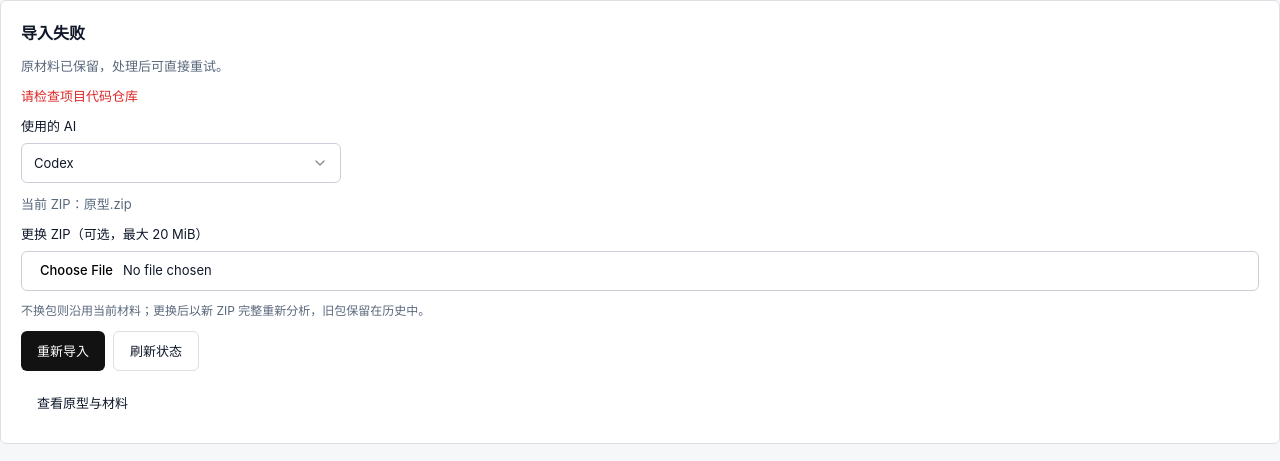
Test case: 原型快速导入 › 失败直接说明原因，点击重试使用现有材料和当前修订
The width and height of the screenshot is (1280, 461).
Click the button "重新导入": [63, 351] box 21,331 -> 105,371
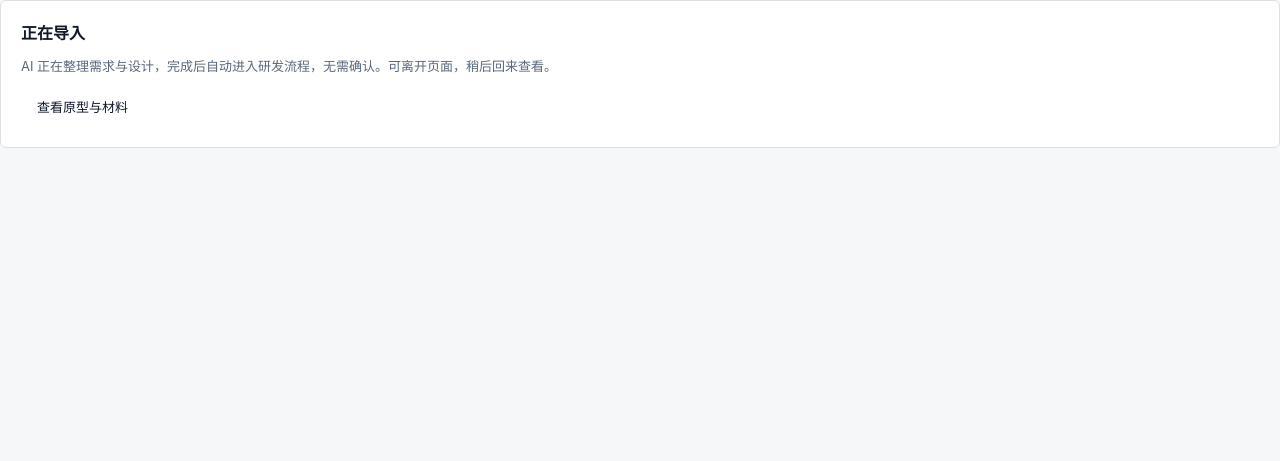
Now the text "正在导入" is shown, box 21,23 -> 85,43
